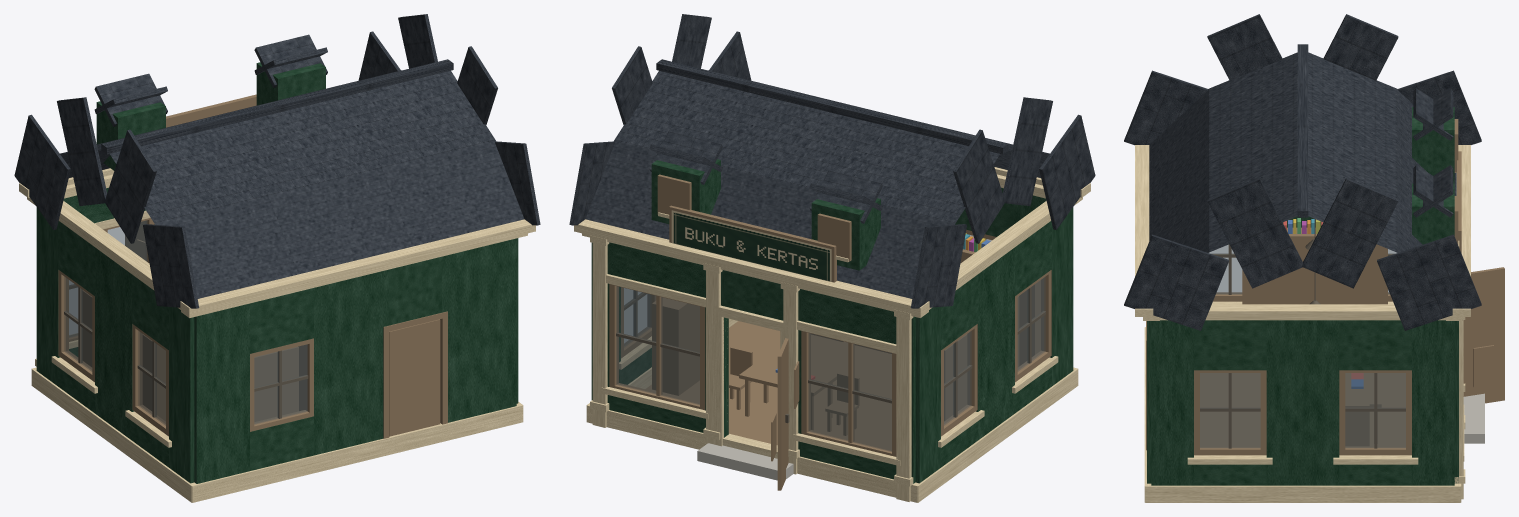
Rendered from buku-kertas-toko-blender-v1.glb.
The picture shows the model from 3 angles, left to right: view 1: azimuth 30°, elevation 25°; view 2: azimuth 150°, elevation 25°; view 3: azimuth 270°, elevation 25°; orthographic projection.
Visible parts, largest first — view 1: buku_slate, buku_green, buku_cream, buku_wood, buku_glass, buku_dark; view 2: buku_slate, buku_green, buku_wood, buku_cream, buku_glass, buku_sign, buku_dark, buku_stone; view 3: buku_slate, buku_green, buku_wood, buku_cream, buku_glass, buku_dark, buku_stone, buku_vc.
Boxes of the visible parts, bbox=[...] form: buku_slate: bbox=[14, 14, 540, 308]; buku_green: bbox=[36, 62, 518, 483]; buku_cream: bbox=[19, 168, 535, 502]; buku_wood: bbox=[58, 94, 447, 438]; buku_glass: bbox=[64, 220, 307, 425]; buku_dark: bbox=[64, 284, 308, 418]; buku_slate: bbox=[569, 14, 1095, 308]; buku_green: bbox=[591, 159, 1073, 483]; buku_wood: bbox=[609, 174, 1051, 490]; buku_cream: bbox=[574, 167, 1090, 502]; buku_glass: bbox=[616, 235, 1045, 451]; buku_sign: bbox=[671, 210, 831, 281]; buku_dark: bbox=[616, 239, 1045, 423]; buku_stone: bbox=[697, 443, 793, 480]; buku_slate: bbox=[1124, 14, 1481, 330]; buku_green: bbox=[1147, 107, 1458, 485]; buku_wood: bbox=[1146, 119, 1504, 455]; buku_cream: bbox=[1135, 145, 1470, 502]; buku_glass: bbox=[1200, 245, 1405, 447]; buku_dark: bbox=[1200, 219, 1405, 448]; buku_stone: bbox=[1463, 393, 1484, 443]; buku_vc: bbox=[1283, 218, 1363, 388].
Size of the model in its own units: 6.5 by 5.94 by 6.28.
Materials: 10 (4 with a texture image).
